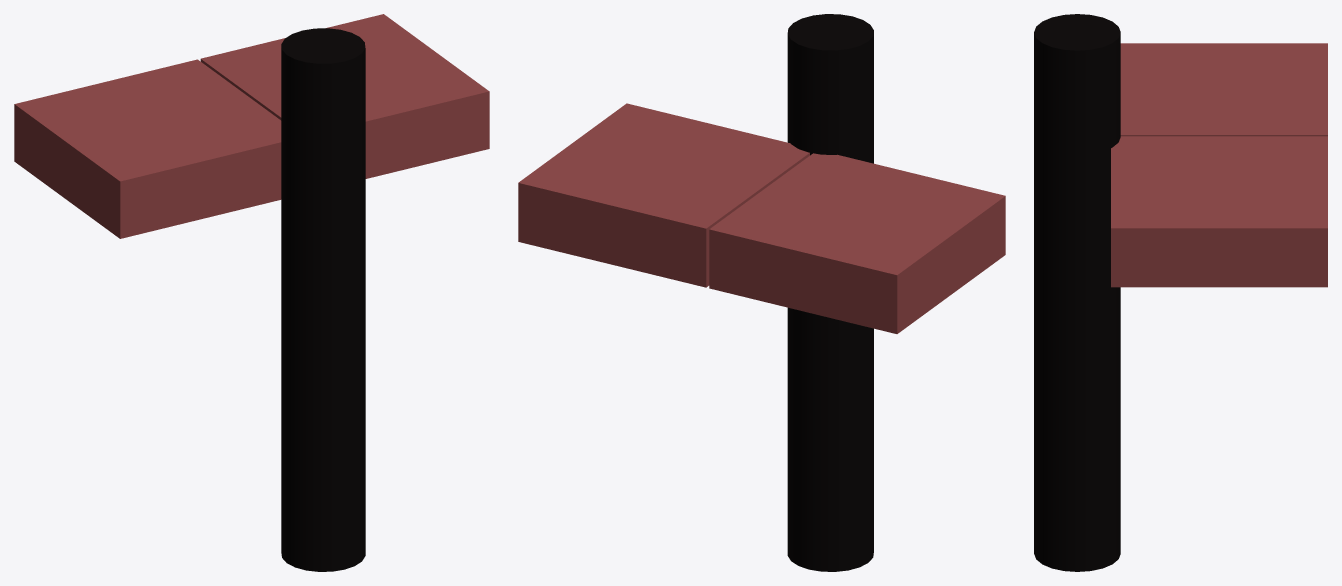
The model's file is abaisse_platform (2).fbx.
3 views of the same model, side by side, from view 1: azimuth 30°, elevation 25°; view 2: azimuth 150°, elevation 25°; view 3: azimuth 270°, elevation 25° (orthographic). The views are drawn at different scales.
Parts seen in each view (by area): view 1: Cylinder, platform_modular_global__3_, platform_modular_global__4_; view 2: platform_modular_global__3_, Cylinder, platform_modular_global__4_; view 3: Cylinder, platform_modular_global__4_, platform_modular_global__3_.
Part boxes in pixels (x1=…): Cylinder: x1=281, y1=28, x2=365, y2=571; platform_modular_global__3_: x1=14, y1=59, x2=281, y2=238; platform_modular_global__4_: x1=200, y1=14, x2=489, y2=178; platform_modular_global__3_: x1=709, y1=153, x2=1005, y2=333; Cylinder: x1=787, y1=14, x2=873, y2=571; platform_modular_global__4_: x1=518, y1=103, x2=809, y2=287; Cylinder: x1=1034, y1=14, x2=1120, y2=571; platform_modular_global__4_: x1=1111, y1=136, x2=1327, y2=287; platform_modular_global__3_: x1=1120, y1=43, x2=1327, y2=136.
Size of the model in its own units: 504 by 663 by 339.
